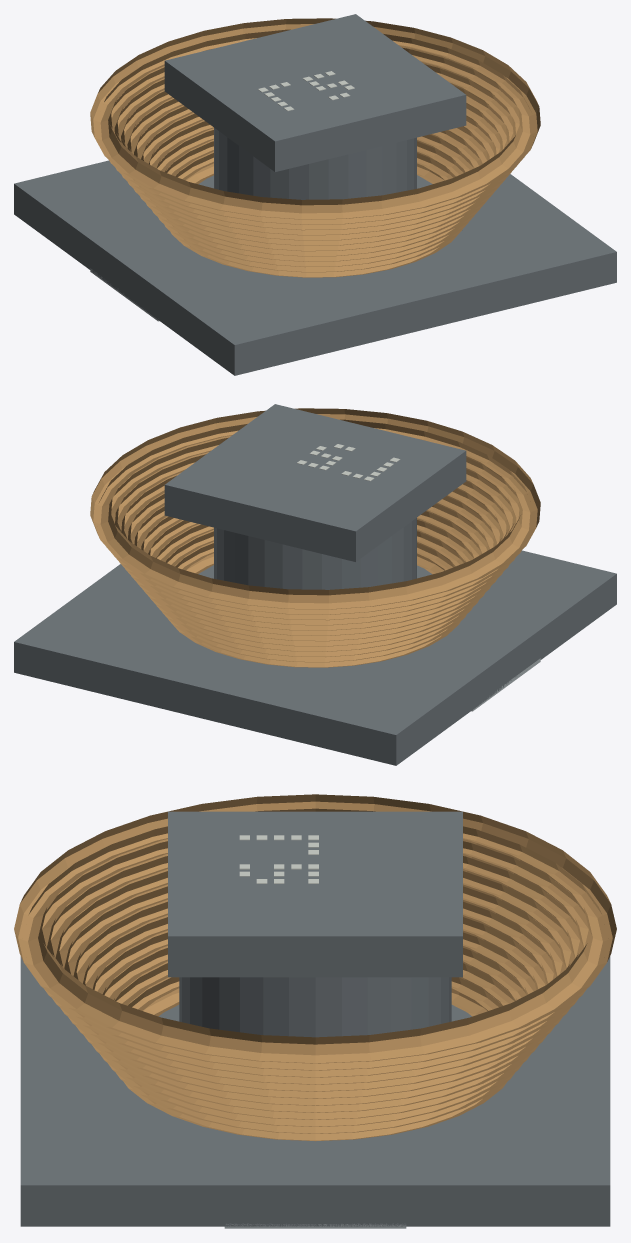
Rendered from 14_L97_L2_Inductor.glb.
The picture shows the model from 3 angles, top to bottom: view 1: azimuth 30°, elevation 25°; view 2: azimuth 150°, elevation 25°; view 3: azimuth 270°, elevation 25°; orthographic projection. The views are drawn at different scales.
Visible parts, largest first — view 1: L2_base_0, L2_core_top_16, L2_copper_turn_11_15, L2_ferrite_inner_3, L2_copper_turn_10_14, L2_copper_turn_9_13, L2_copper_turn_8_12, L2_copper_turn_7_11, L2_copper_turn_6_10, L2_copper_turn_4_8, L2_copper_turn_5_9, L2_copper_turn_3_7 (+3 smaller); view 2: L2_base_0, L2_core_top_16, L2_copper_turn_11_15, L2_ferrite_inner_3, L2_copper_turn_10_14, L2_copper_turn_9_13, L2_copper_turn_8_12, L2_copper_turn_7_11, L2_copper_turn_6_10, L2_copper_turn_4_8, L2_copper_turn_5_9, L2_copper_turn_3_7 (+3 smaller); view 3: L2_base_0, L2_core_top_16, L2_copper_turn_11_15, L2_ferrite_inner_3, L2_copper_turn_10_14, L2_copper_turn_9_13, L2_copper_turn_8_12, L2_copper_turn_7_11, L2_copper_turn_6_10, L2_copper_turn_5_9, L2_copper_turn_4_8, L2_copper_turn_3_7 (+4 smaller).
Part boxes in pixels (bbox=[...]): L2_base_0: bbox=[14, 160, 616, 375]; L2_core_top_16: bbox=[164, 14, 466, 171]; L2_copper_turn_11_15: bbox=[90, 18, 540, 219]; L2_ferrite_inner_3: bbox=[214, 128, 416, 199]; L2_copper_turn_10_14: bbox=[104, 29, 531, 224]; L2_copper_turn_9_13: bbox=[113, 47, 516, 230]; L2_copper_turn_8_12: bbox=[120, 64, 510, 235]; L2_copper_turn_7_11: bbox=[126, 85, 505, 240]; L2_copper_turn_6_10: bbox=[132, 98, 499, 245]; L2_copper_turn_4_8: bbox=[144, 113, 486, 256]; L2_copper_turn_5_9: bbox=[138, 106, 492, 251]; L2_copper_turn_3_7: bbox=[151, 121, 480, 261]; L2_base_0: bbox=[14, 550, 616, 765]; L2_core_top_16: bbox=[164, 404, 466, 561]; L2_copper_turn_11_15: bbox=[90, 408, 540, 609]; L2_ferrite_inner_3: bbox=[214, 518, 416, 589]; L2_copper_turn_10_14: bbox=[99, 419, 526, 614]; L2_copper_turn_9_13: bbox=[114, 437, 517, 620]; L2_copper_turn_8_12: bbox=[120, 454, 510, 625]; L2_copper_turn_7_11: bbox=[125, 475, 504, 630]; L2_copper_turn_6_10: bbox=[131, 488, 498, 635]; L2_copper_turn_4_8: bbox=[144, 503, 486, 646]; L2_copper_turn_5_9: bbox=[138, 496, 492, 641]; L2_copper_turn_3_7: bbox=[150, 511, 479, 651]; L2_base_0: bbox=[20, 956, 610, 1226]; L2_core_top_16: bbox=[168, 811, 462, 977]; L2_copper_turn_11_15: bbox=[14, 794, 616, 1063]; L2_ferrite_inner_3: bbox=[179, 977, 451, 1037]; L2_copper_turn_10_14: bbox=[29, 808, 601, 1070]; L2_copper_turn_9_13: bbox=[45, 841, 585, 1077]; L2_copper_turn_8_12: bbox=[54, 856, 576, 1084]; L2_copper_turn_7_11: bbox=[62, 871, 568, 1091]; L2_copper_turn_6_10: bbox=[71, 886, 559, 1098]; L2_copper_turn_5_9: bbox=[79, 901, 551, 1105]; L2_copper_turn_4_8: bbox=[87, 917, 543, 1112]; L2_copper_turn_3_7: bbox=[96, 932, 534, 1119].
Size of the model in its own units: 0.0133 by 0.00565 by 0.0133.
